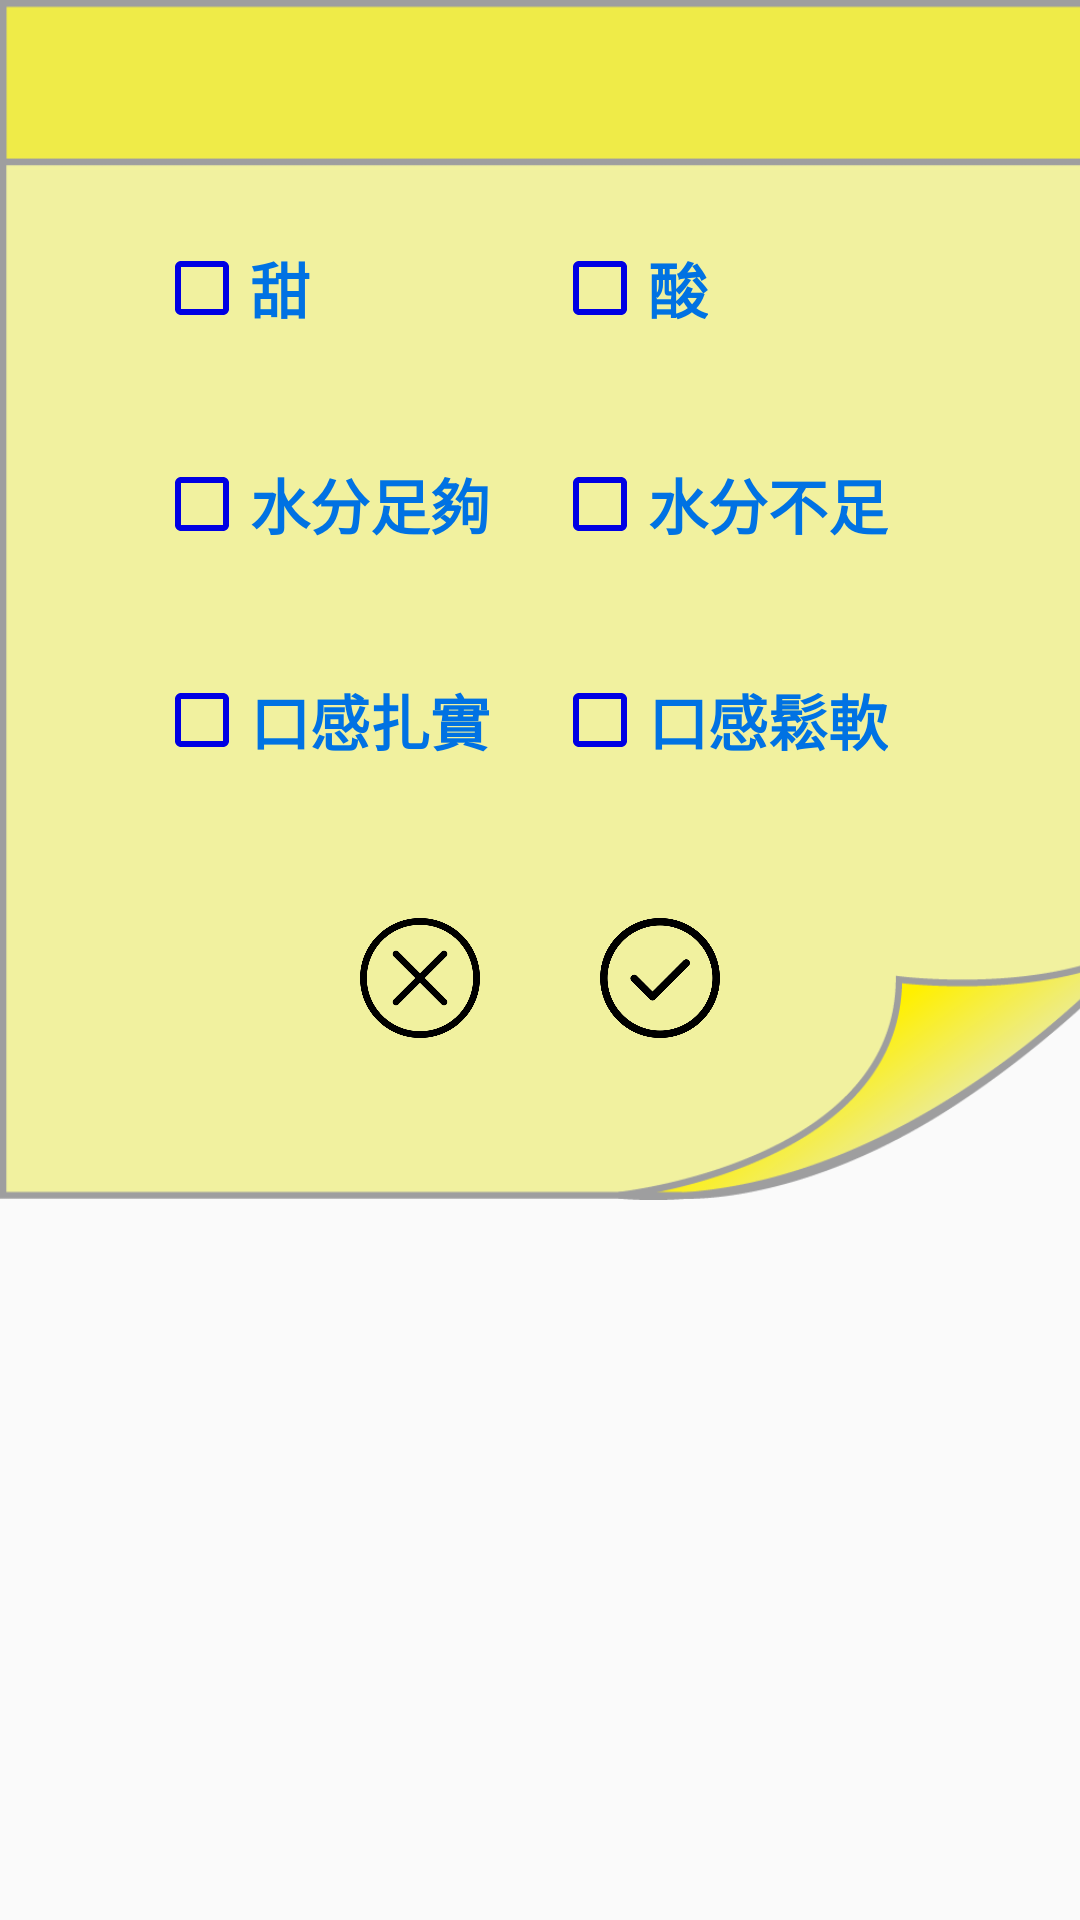

Locate icon controls on the screen. Image size 1080×1920, boxes as (x1, y1, x2, y2).
cancel: (360, 918, 480, 1038)
confirm: (600, 918, 720, 1038)
